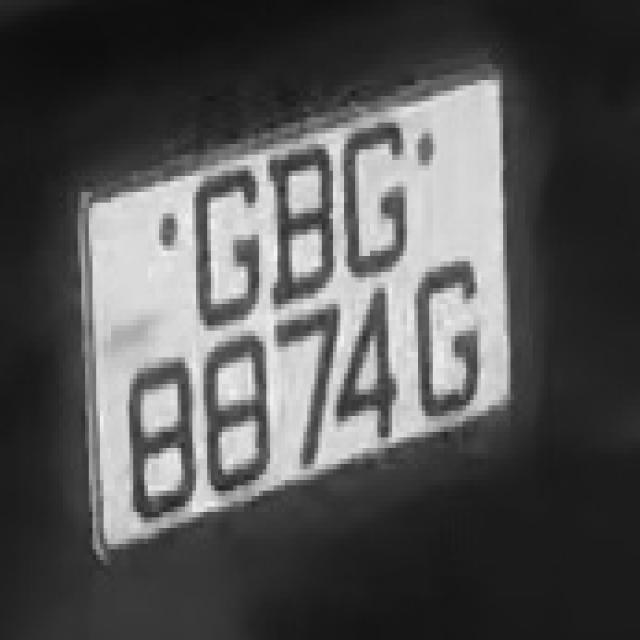4: (326, 277, 410, 453)
7: (278, 283, 344, 469)
8: (188, 315, 278, 501), (118, 357, 196, 512)
B: (252, 128, 348, 309)
G: (181, 149, 263, 331), (333, 107, 414, 277), (407, 256, 485, 427)
